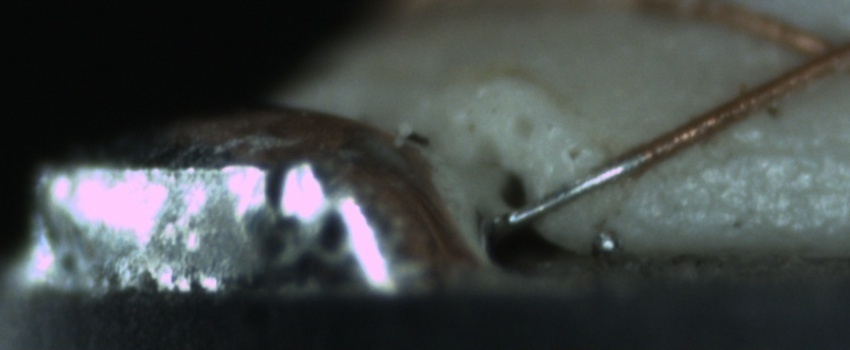DL: (694, 118, 848, 185)
TS: (500, 150, 649, 223)
